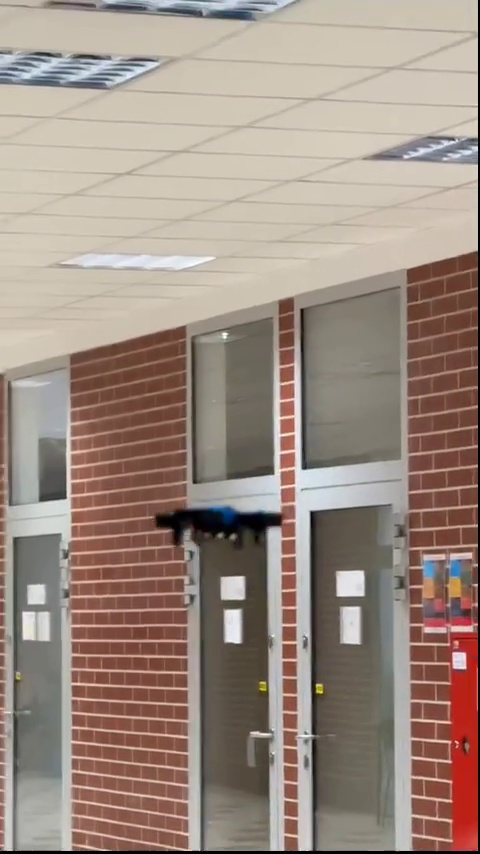drone: (159, 503, 285, 547)
